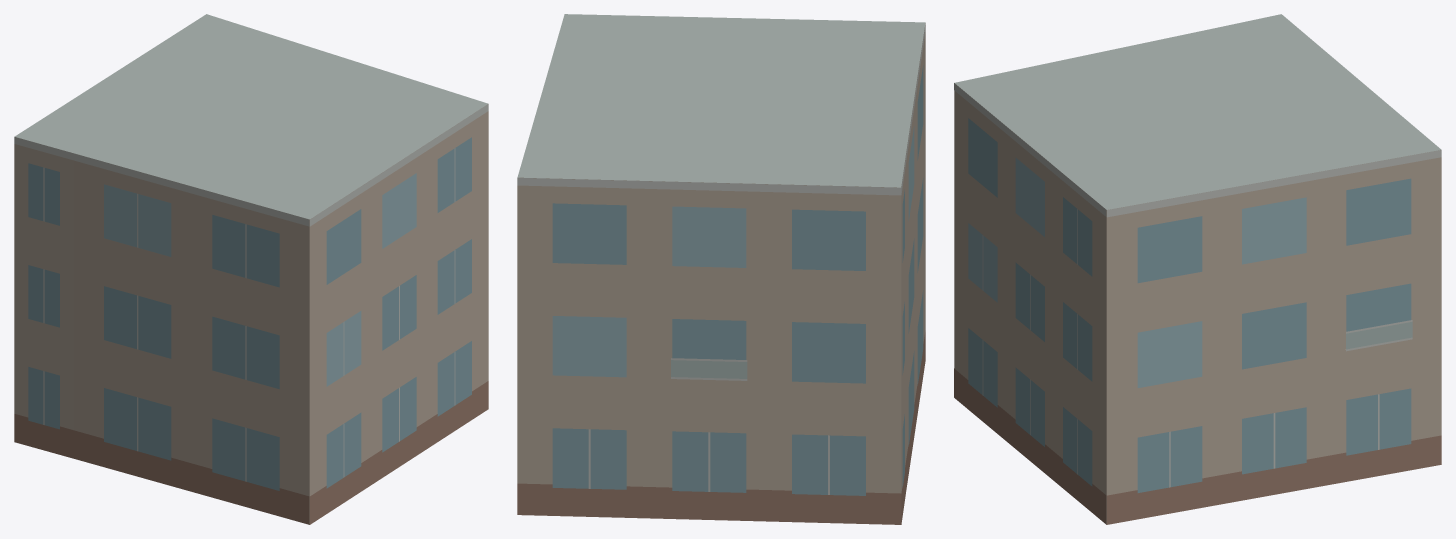
The model's file is survey-upis-32960233.glb.
3 views of the same model, side by side, from view 1: azimuth 30°, elevation 25°; view 2: azimuth 150°, elevation 25°; view 3: azimuth 270°, elevation 25° (orthographic). The views are drawn at different scales.
Visible parts, largest first — view 1: survey-upis-32960233.tmp; view 2: survey-upis-32960233.tmp; view 3: survey-upis-32960233.tmp.
Part boxes in pixels (left/top/right/bottom): survey-upis-32960233.tmp: left=14, top=14, right=488, bottom=524; survey-upis-32960233.tmp: left=517, top=14, right=925, bottom=524; survey-upis-32960233.tmp: left=954, top=14, right=1441, bottom=524.
Size of the model in its own units: 13.89 by 10.4 by 14.6.
